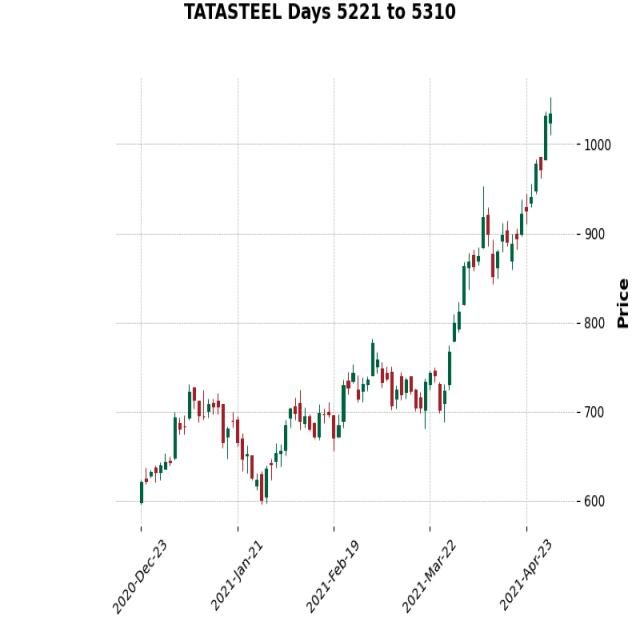Ascending Triangle: (253, 326, 454, 507)
